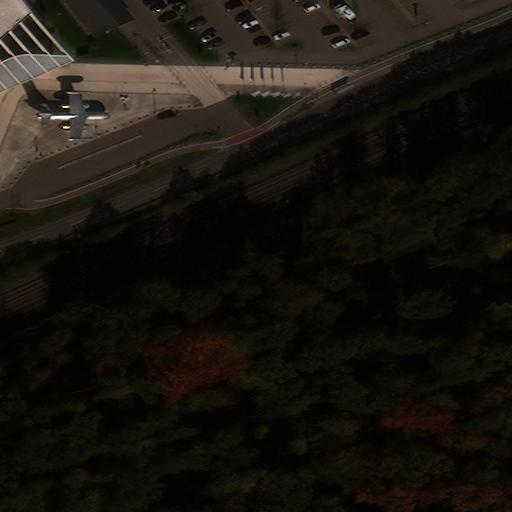Military Transport: (38, 93, 110, 138)
